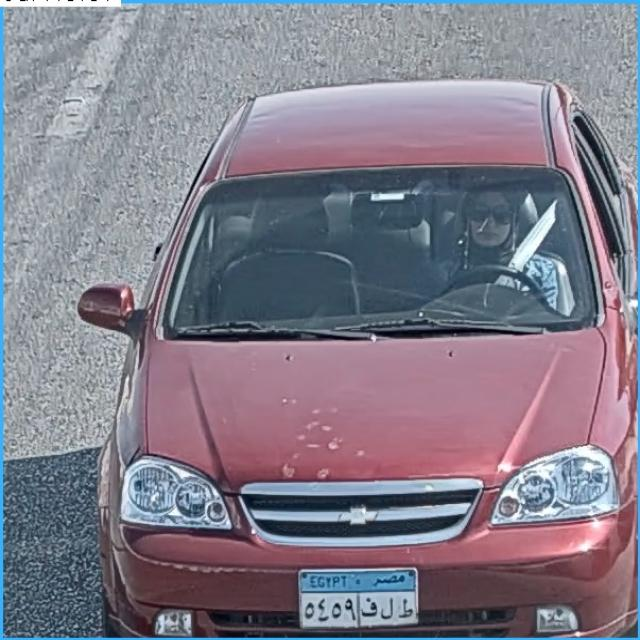windshield: (172, 171, 581, 330)
